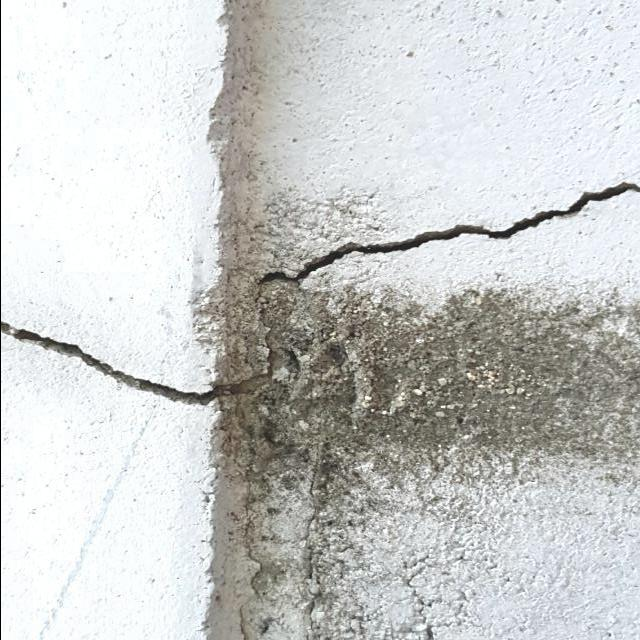SurfaceCrack: (213, 160, 640, 334)
